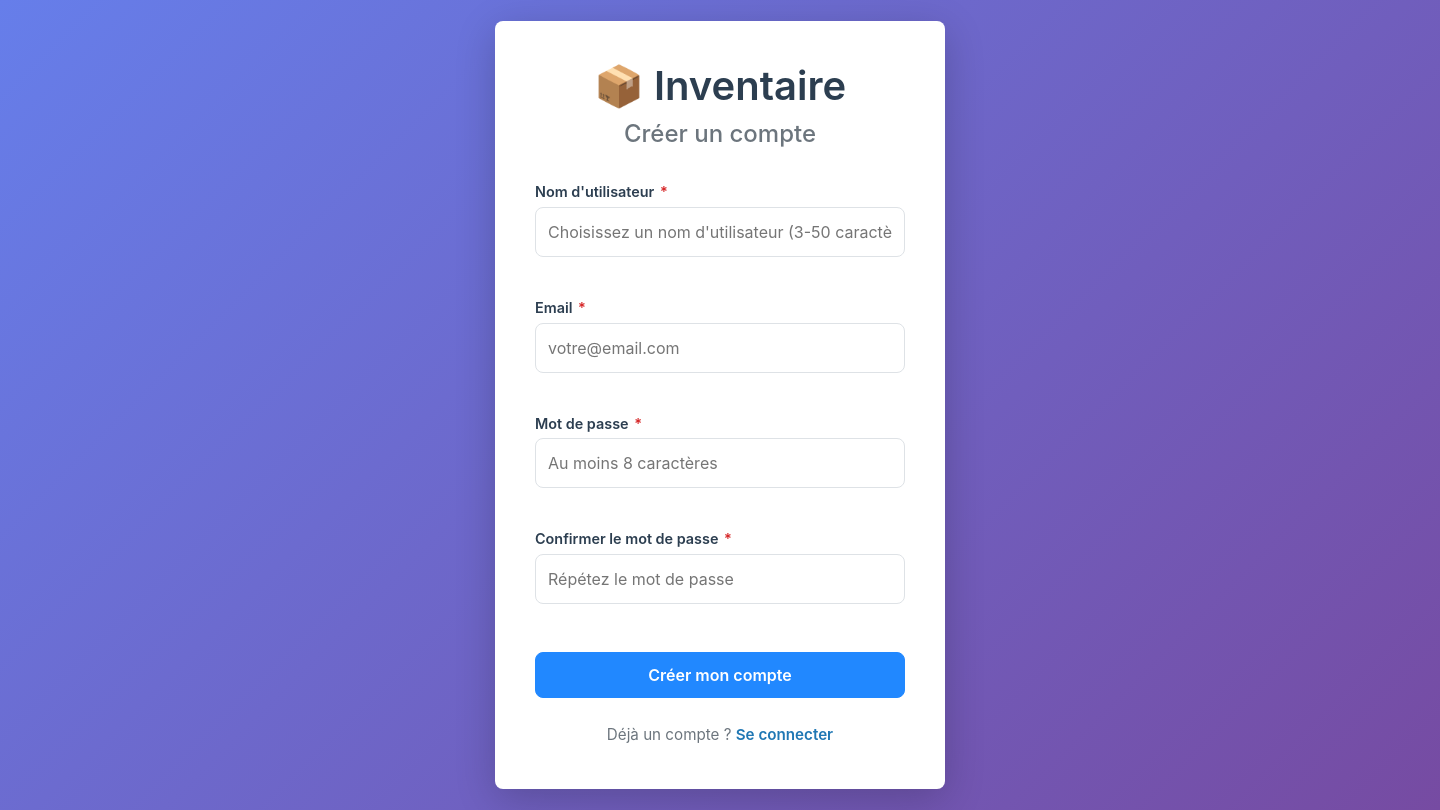
Test: Register › affiche une erreur si le username est trop court
Step 1. Type "ab" into the field labelled "Nom d'utilisateur *" → (720, 232), box [535,207,905,257]
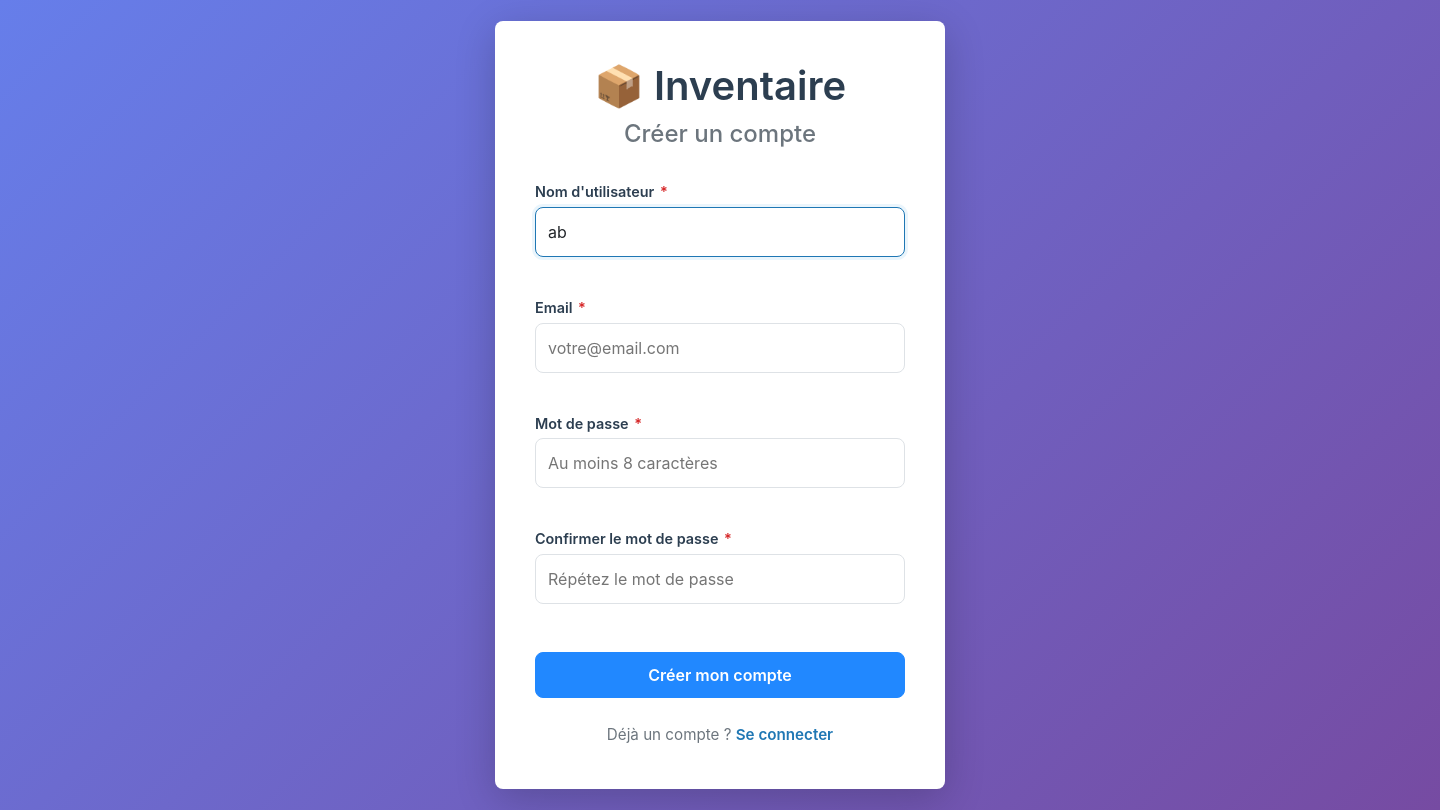
Step 2. Click the button "Créer mon compte" → (720, 675), box [535,652,905,698]
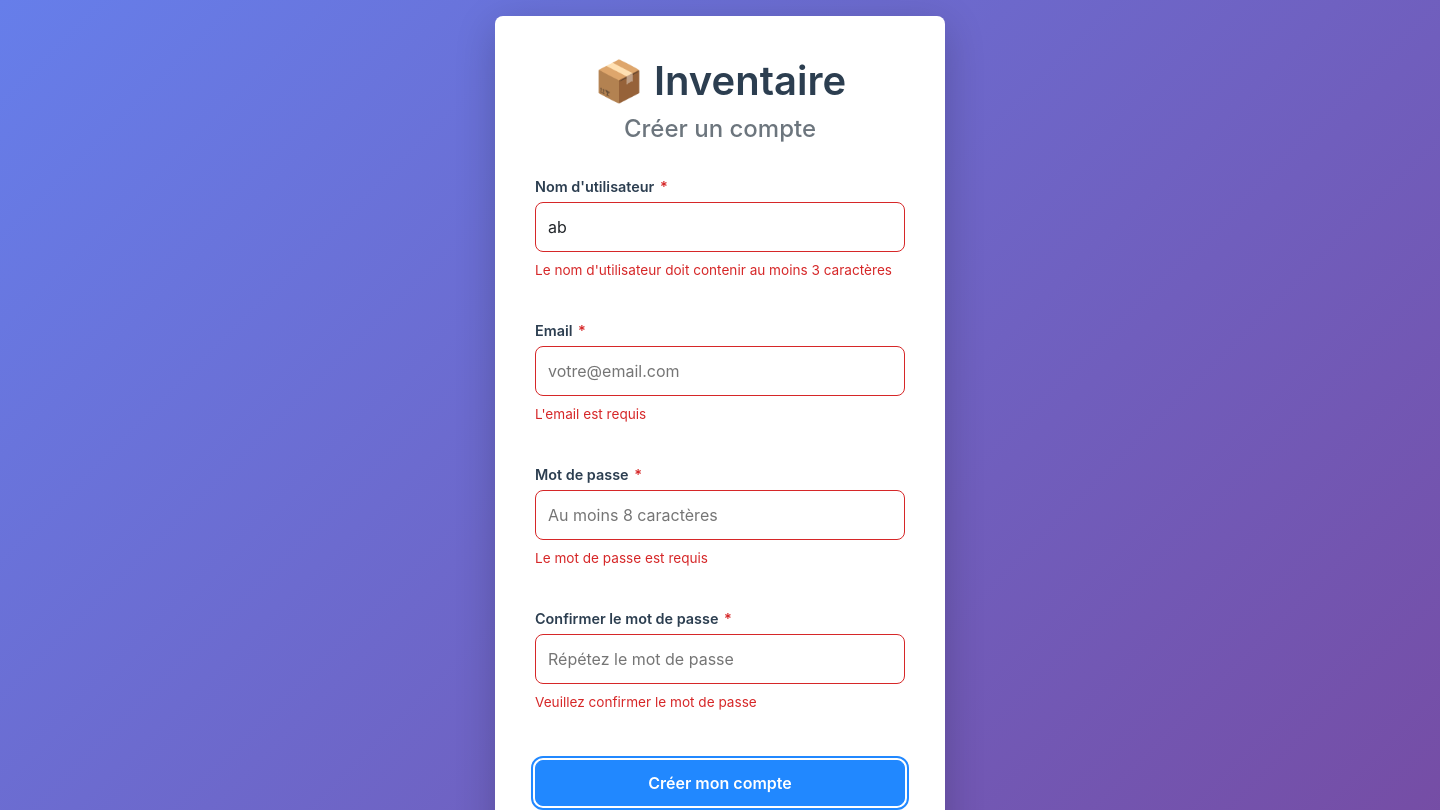
expect the text "Le nom d'utilisateur doit contenir au moins 3 caractères" is shown: met, box [535,260,905,280]
